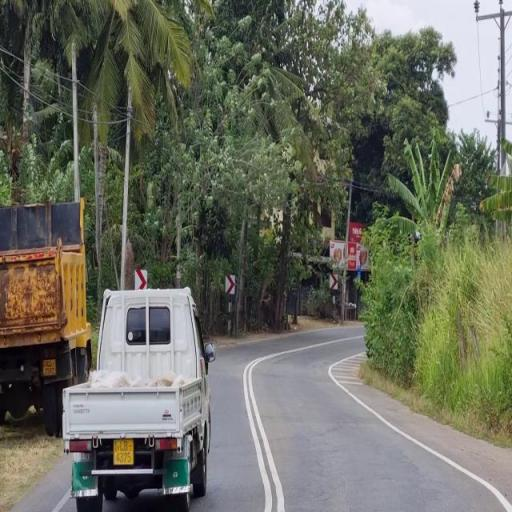double_white_line: (243, 352, 288, 512), (51, 491, 67, 512)
